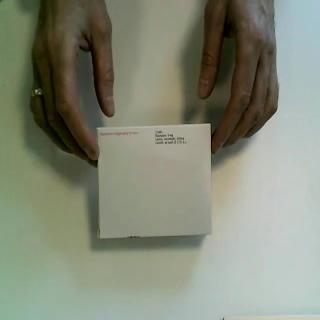valium5mg: (96, 123, 214, 242)
